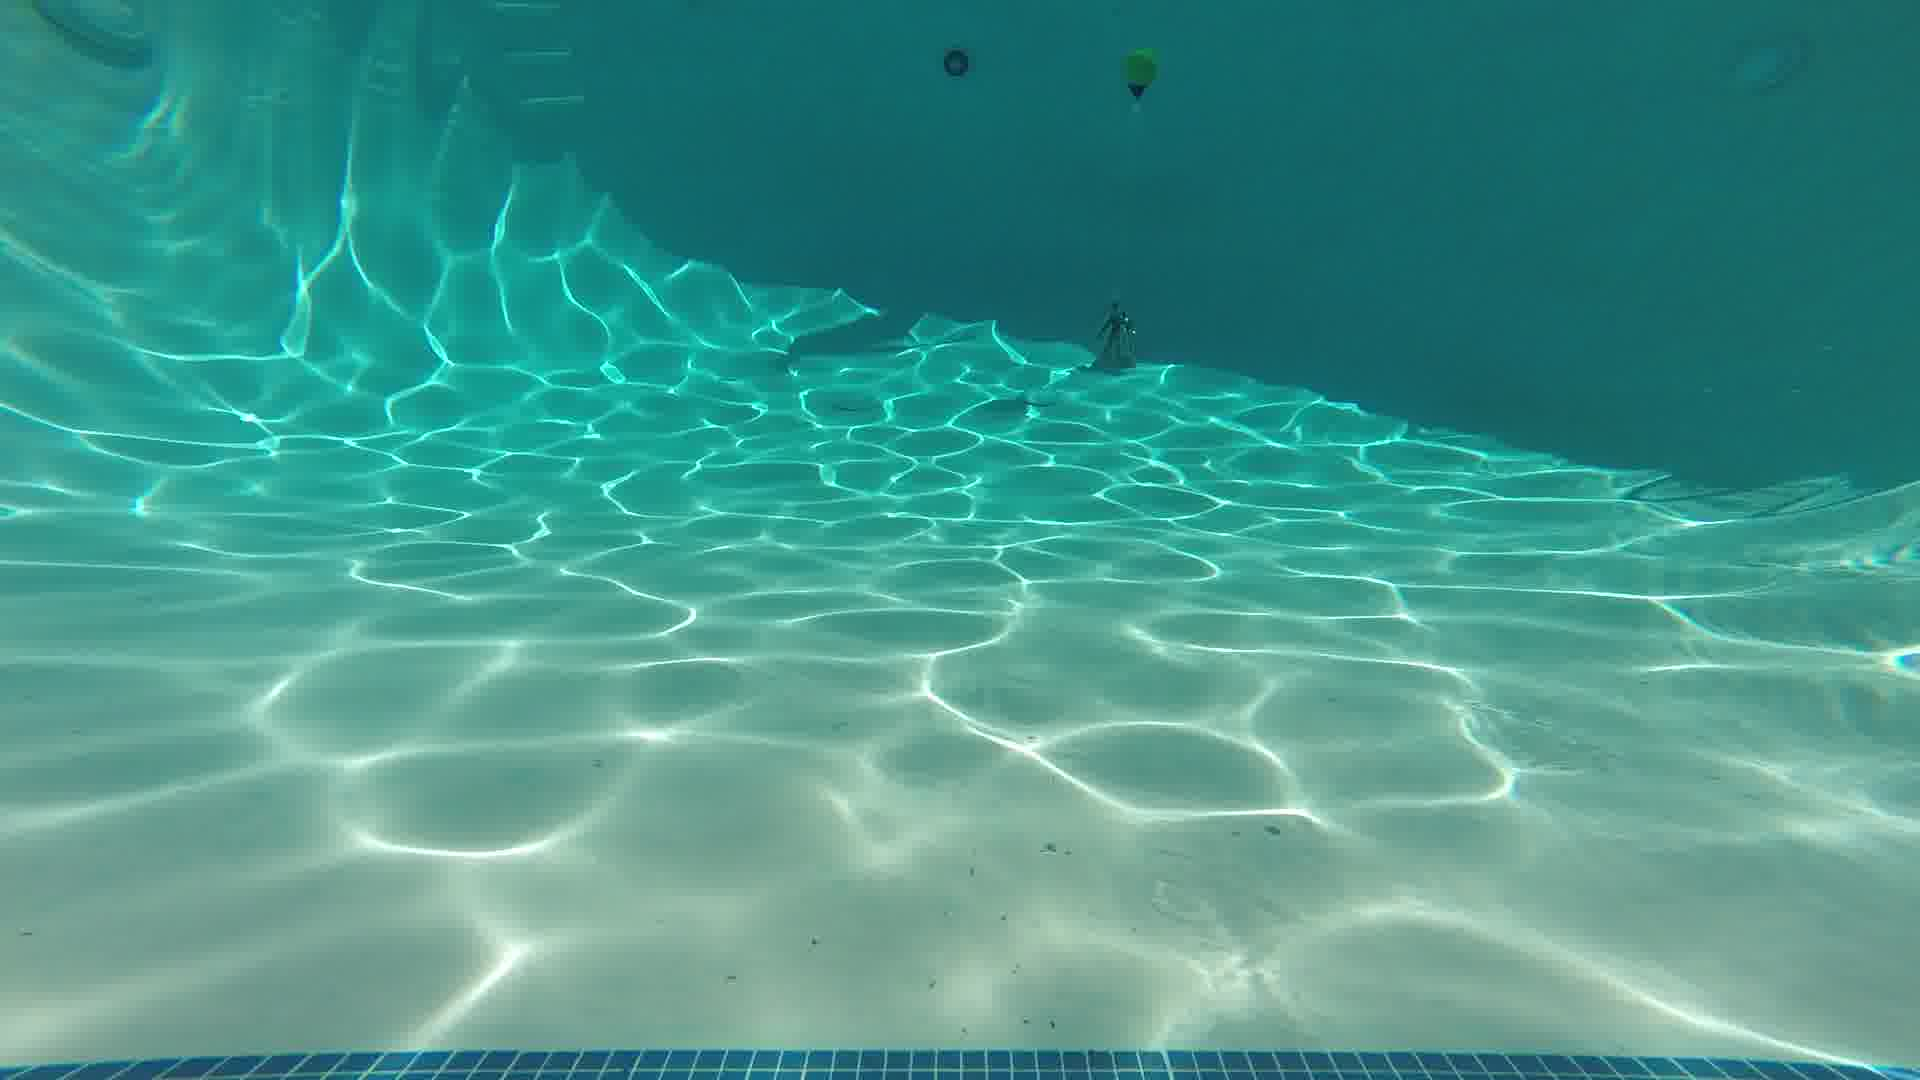yellow_buoy: (1121, 49, 1154, 98)
